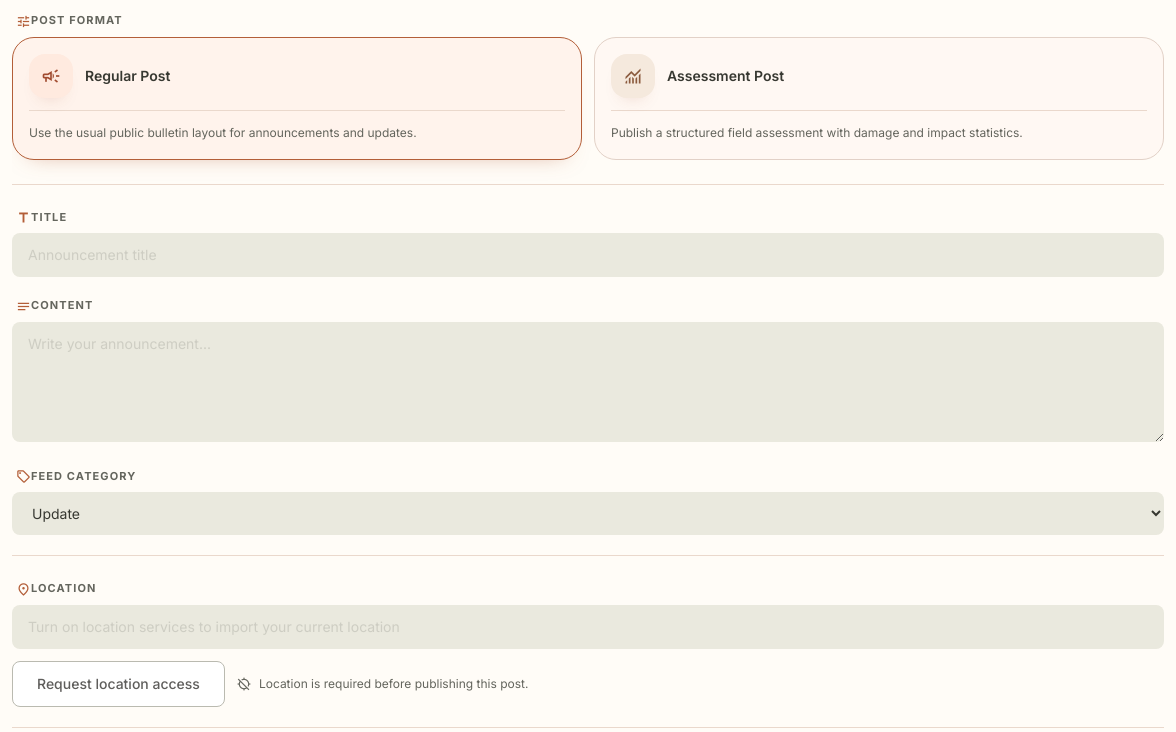
DepartmentCreatePostForm › requests browser access and imports the current device location
Click the button "Request location access": (118, 684) [12,660,225,706]
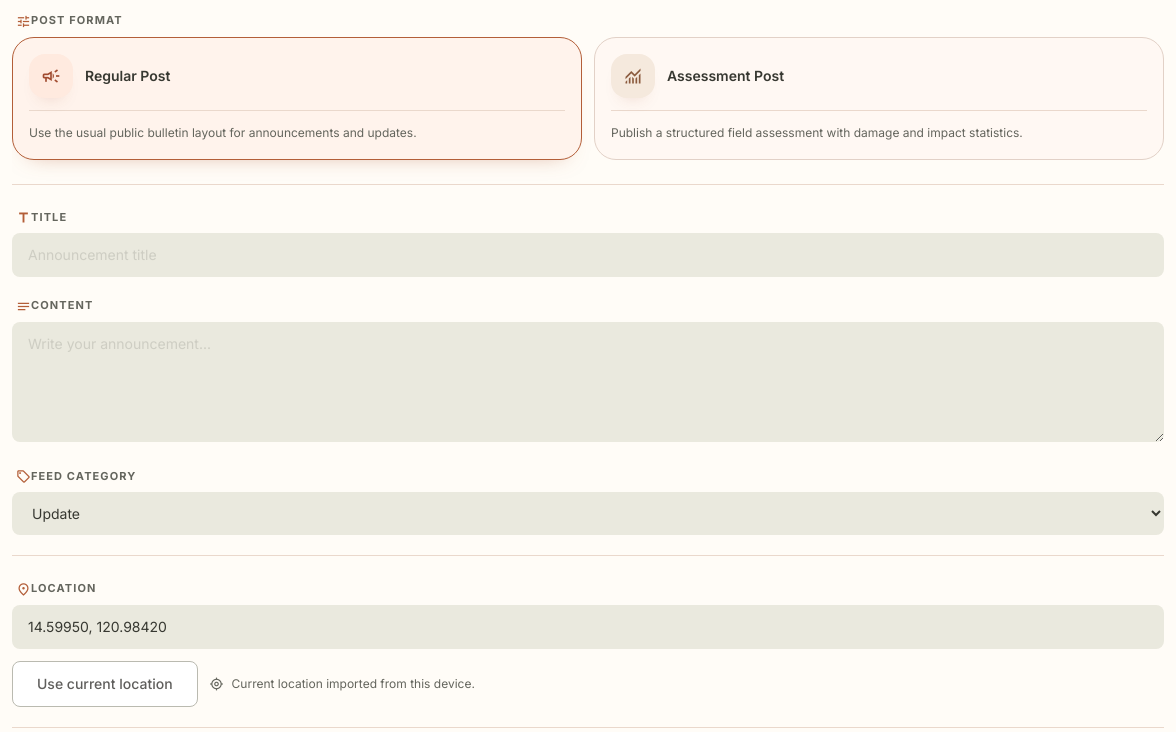
Now the field showing "14.59950, 120.98420" is shown, box [12,604,1164,648]
Now the text "Current location imported from this device." is shown, box [232,676,475,692]
